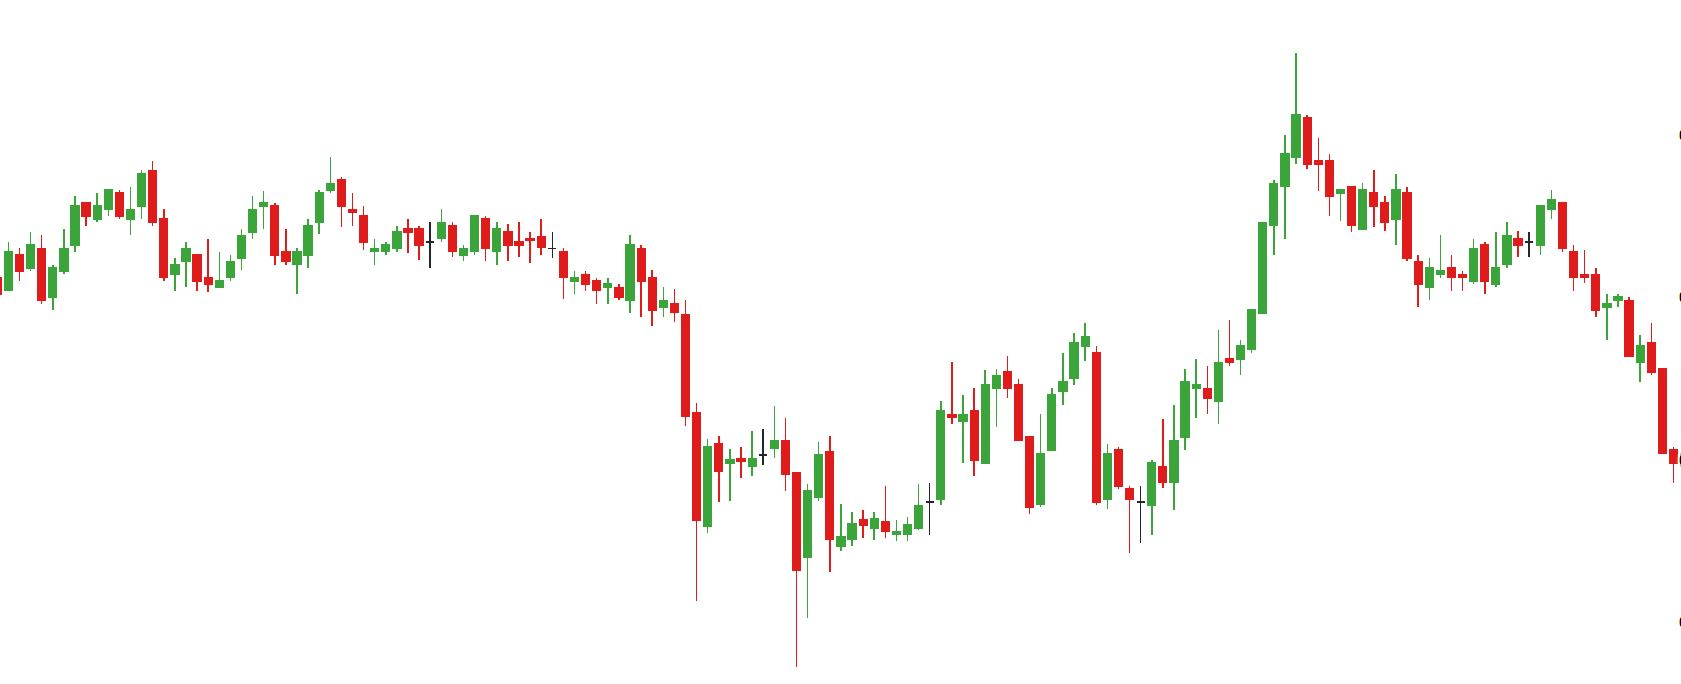buy: (689, 441, 815, 678), (1021, 387, 1117, 521)
sell: (257, 152, 348, 246)
